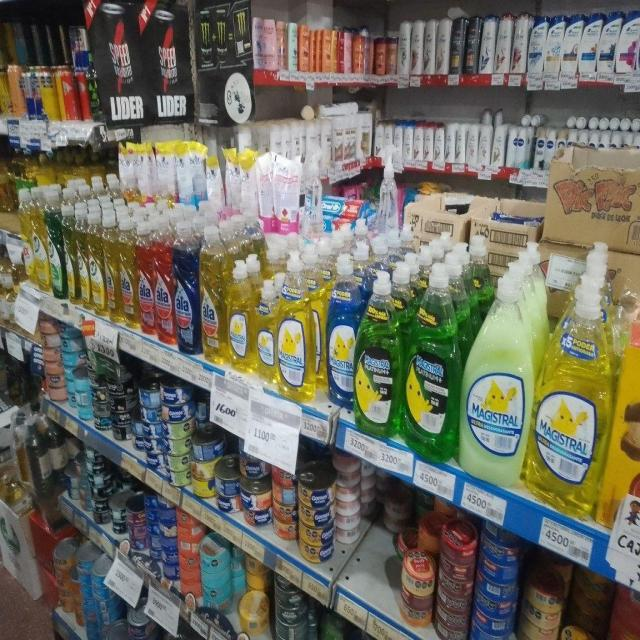ala_conc_amarillo: (200, 228, 226, 363), (120, 218, 136, 329), (104, 215, 119, 322)
ala_conc_azul: (174, 220, 199, 354)
ala_conc_rojo: (154, 221, 174, 346), (137, 222, 154, 336)
cif_conc_bot_amarilla: (32, 186, 48, 292), (89, 212, 104, 315), (76, 205, 88, 310), (64, 200, 75, 304)
cif_conc_botella_verde: (48, 188, 64, 299)
magistral_con_amarillo: (532, 259, 608, 515), (276, 262, 314, 402), (228, 257, 254, 373), (256, 279, 276, 383)
magistral_con_azul: (327, 252, 356, 408)
magistral_con_crema: (462, 265, 530, 485)
